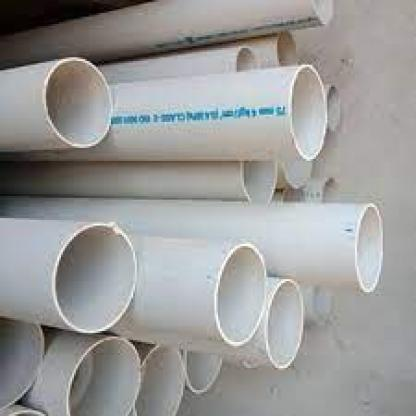PVC: (0, 2, 386, 414)
